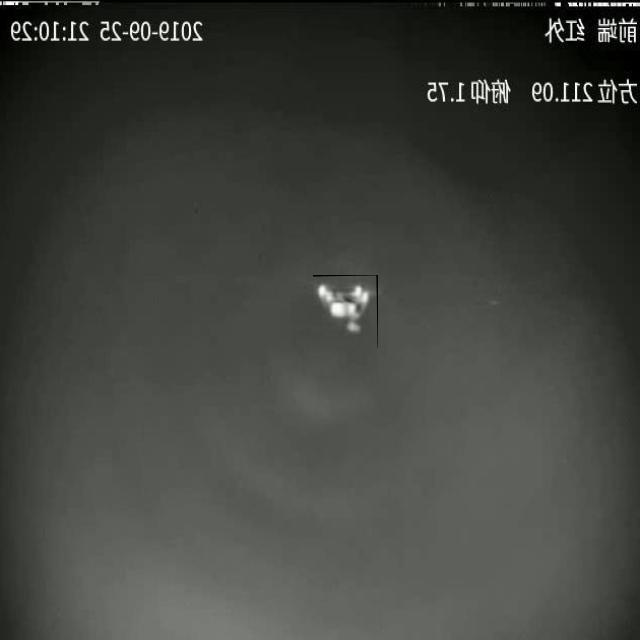drone: (313, 275, 378, 348)
